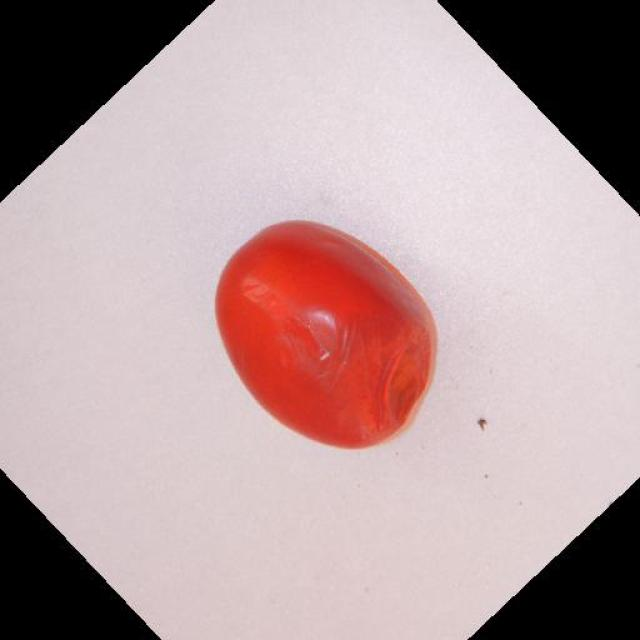Stale_tomato: (191, 217, 447, 456)
